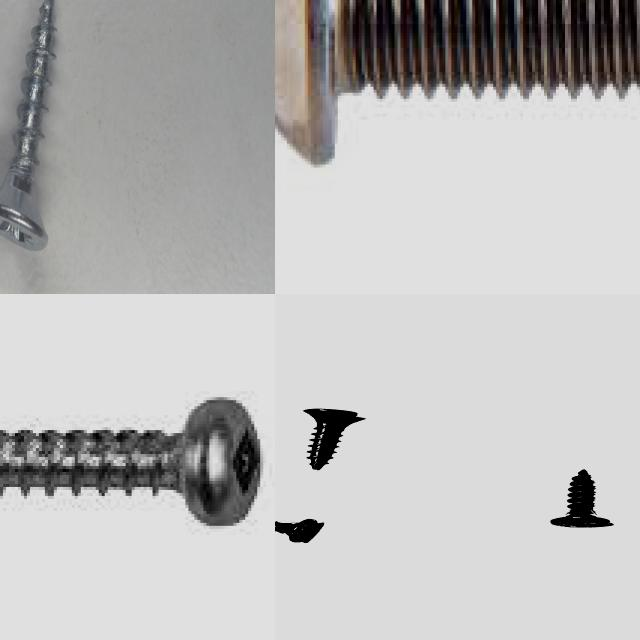Screw: (275, 0, 640, 164), (0, 397, 266, 529), (0, 0, 56, 250), (302, 408, 364, 470), (550, 469, 613, 528), (275, 519, 323, 543)
